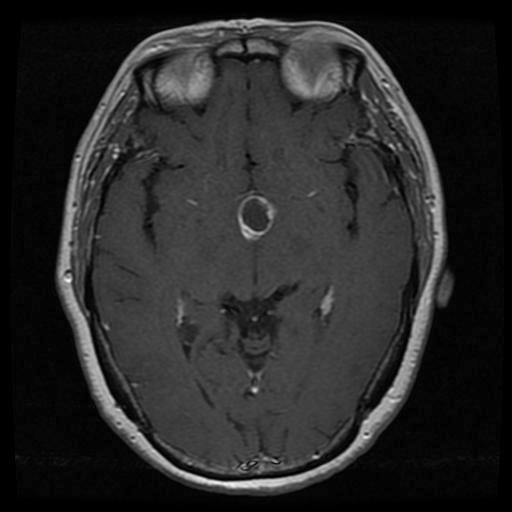Tumour-Pituitary: (235, 194, 281, 242)
